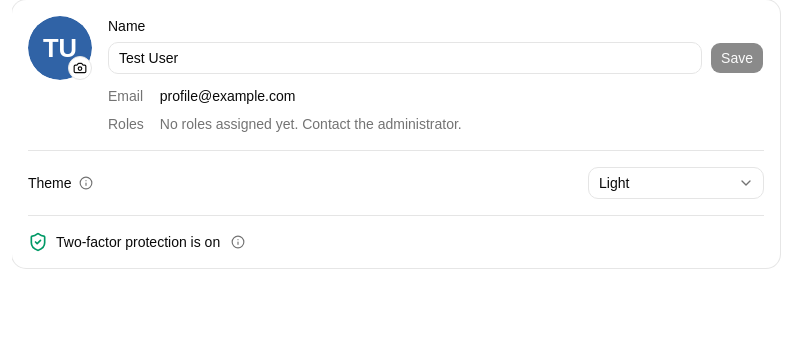
keeps changed names after a save failure and permits a successful retry
Replace the text in the field labelled "Name" with "Updated User" at (405, 58), box top-left (108, 42), bottom-right (702, 74)
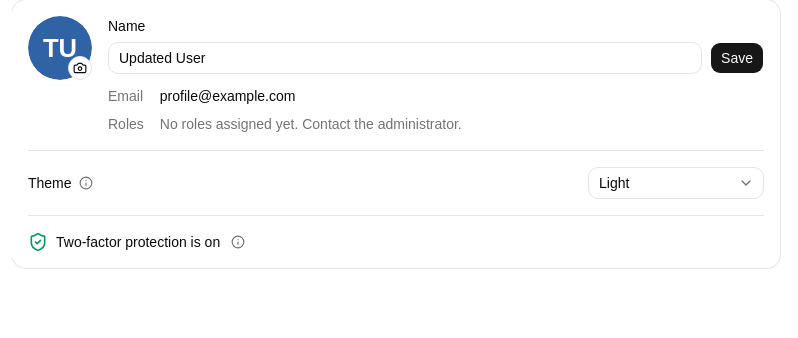
Click the button "Save".
click(737, 58)  # box top-left (710, 42), bottom-right (764, 74)
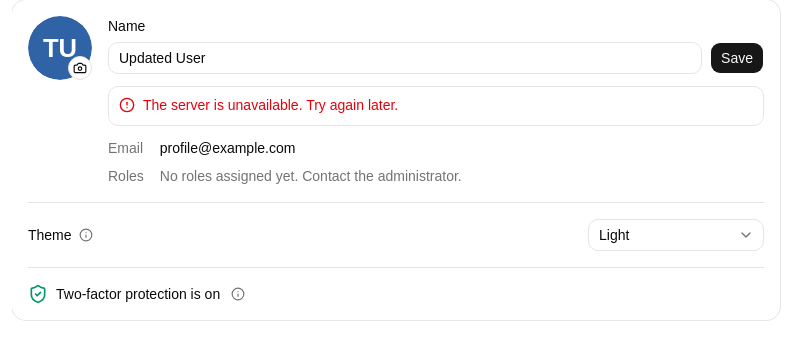
Expected: the message reads "The server is unavailable. Try again later.", top-left (143, 97), bottom-right (398, 113)
Click the button "Save".
click(737, 58)  # box top-left (710, 42), bottom-right (764, 74)
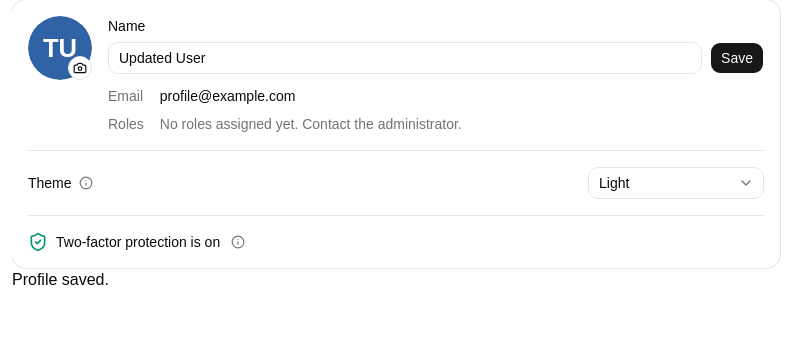
Replace the text in the field labelled "Name" with "Test User" at (405, 58), box top-left (108, 42), bottom-right (702, 74)
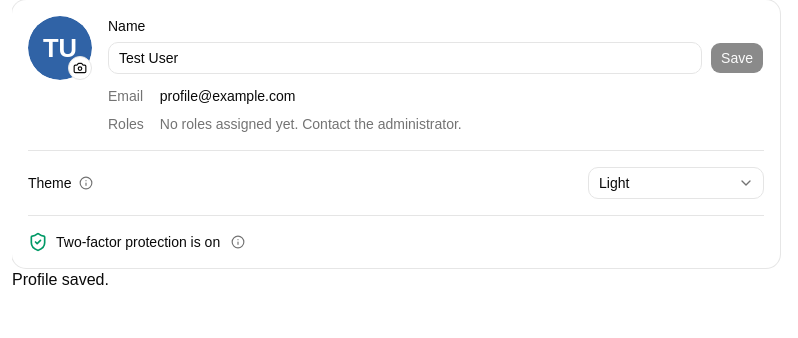
Expected: the button "Save" is disabled, top-left (710, 42), bottom-right (764, 74)
